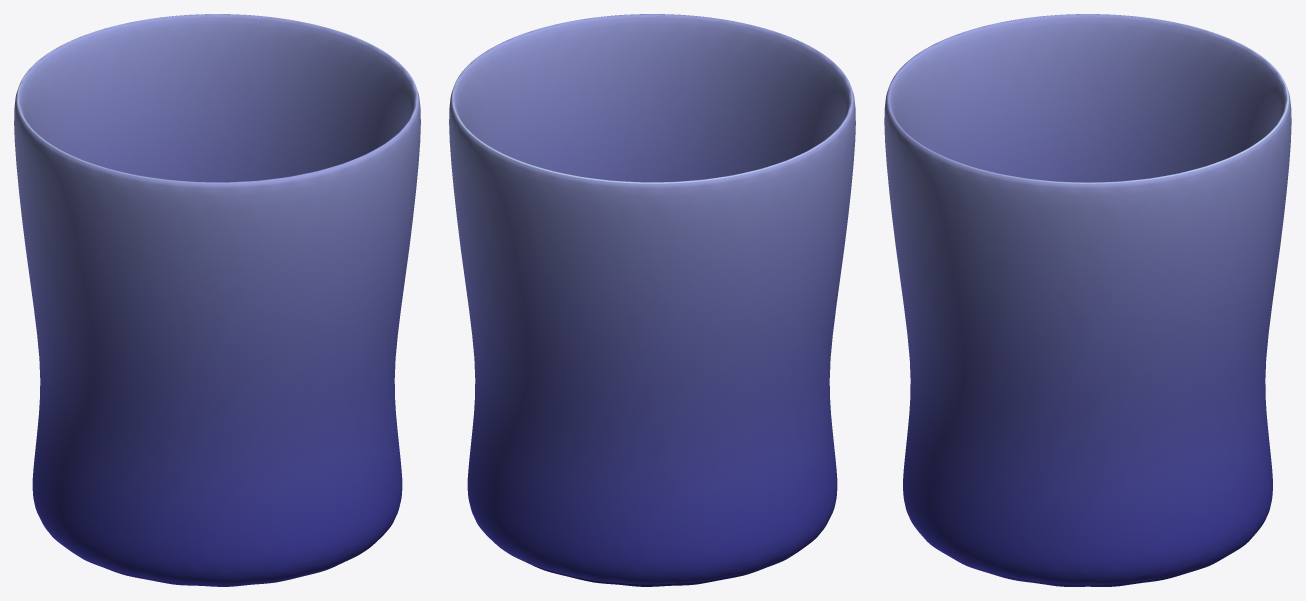
The model's file is Shot Glass.fbx.
3 views of the same model, side by side, from view 1: azimuth 30°, elevation 25°; view 2: azimuth 150°, elevation 25°; view 3: azimuth 270°, elevation 25° (orthographic).
Parts seen in each view (by area): view 1: Shot_Glass; view 2: Shot_Glass; view 3: Shot_Glass.
Part boxes in pixels (x1=…): Shot_Glass: x1=14, y1=14, x2=420, y2=586; Shot_Glass: x1=449, y1=14, x2=855, y2=586; Shot_Glass: x1=884, y1=14, x2=1291, y2=586.
Bounding box in the file's own units: 8.63 × 10.01 × 8.63.
Materials: 1 (1 with a texture image).
